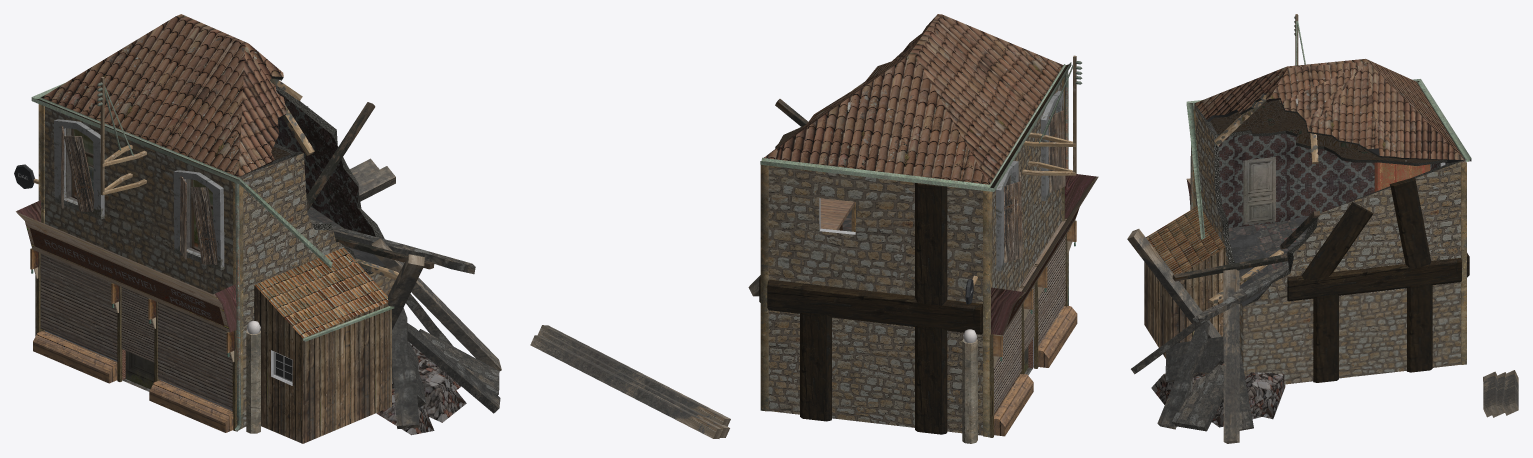
Rendered from Casa1.fbx.
3 views of the same model, side by side, from view 1: azimuth 30°, elevation 25°; view 2: azimuth 150°, elevation 25°; view 3: azimuth 270°, elevation 25° (orthographic). The views are drawn at different scales.
Visible parts, largest first — view 1: Cylinder001.003; view 2: Cylinder001.003; view 3: Cylinder001.003.
Part boxes in pixels (left/top/right/bottom): Cylinder001.003: left=14, top=14, right=501, bottom=443; Cylinder001.003: left=530, top=14, right=1098, bottom=443; Cylinder001.003: left=1127, top=14, right=1518, bottom=443.
Bounding box in the file's own units: 1204 × 974 × 1159.
